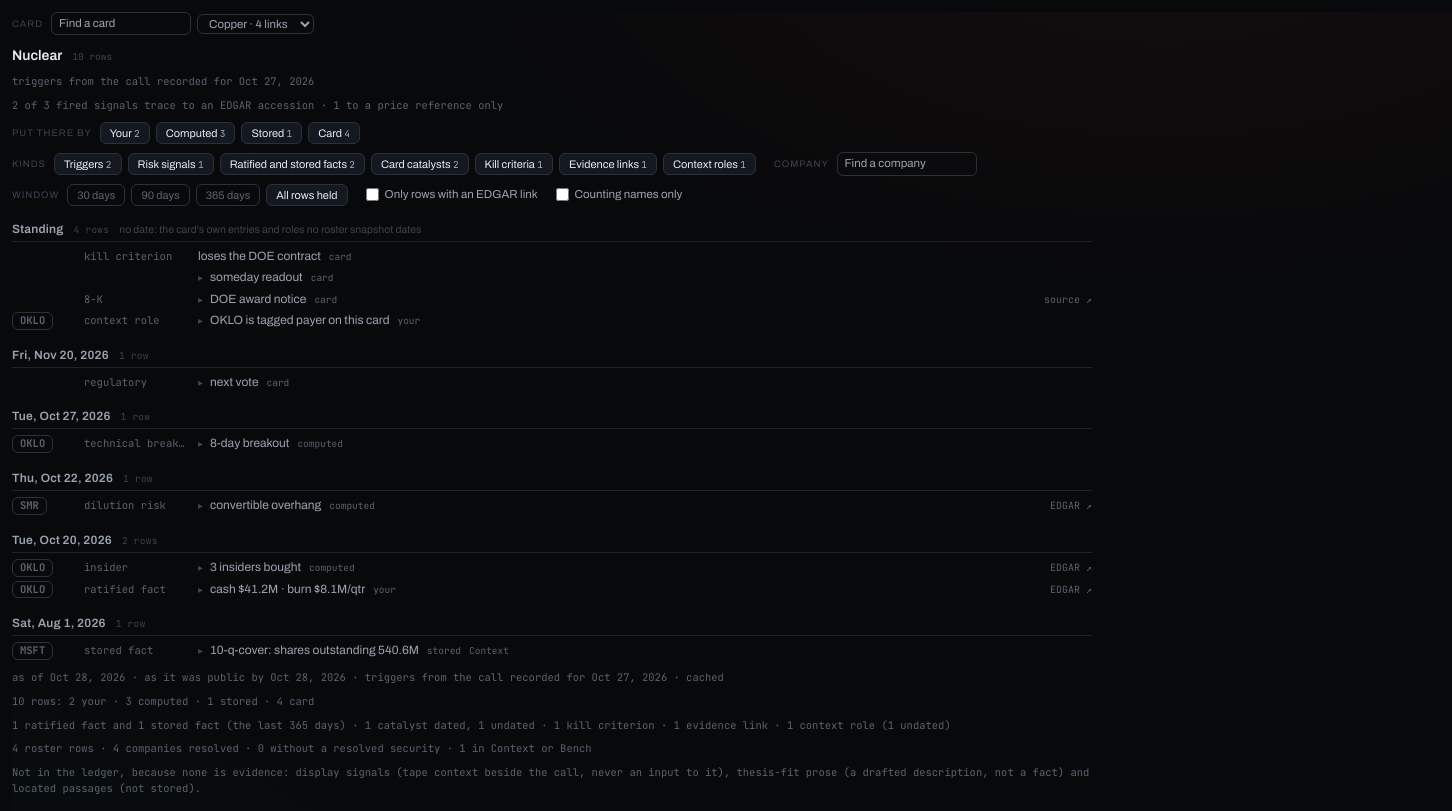
Test: EvidenceLedger › shows a price reference as text with its inputs, and no link
Click the button "▸ 8-day breakout" at coordinates (244, 444), box [198,435,289,453]
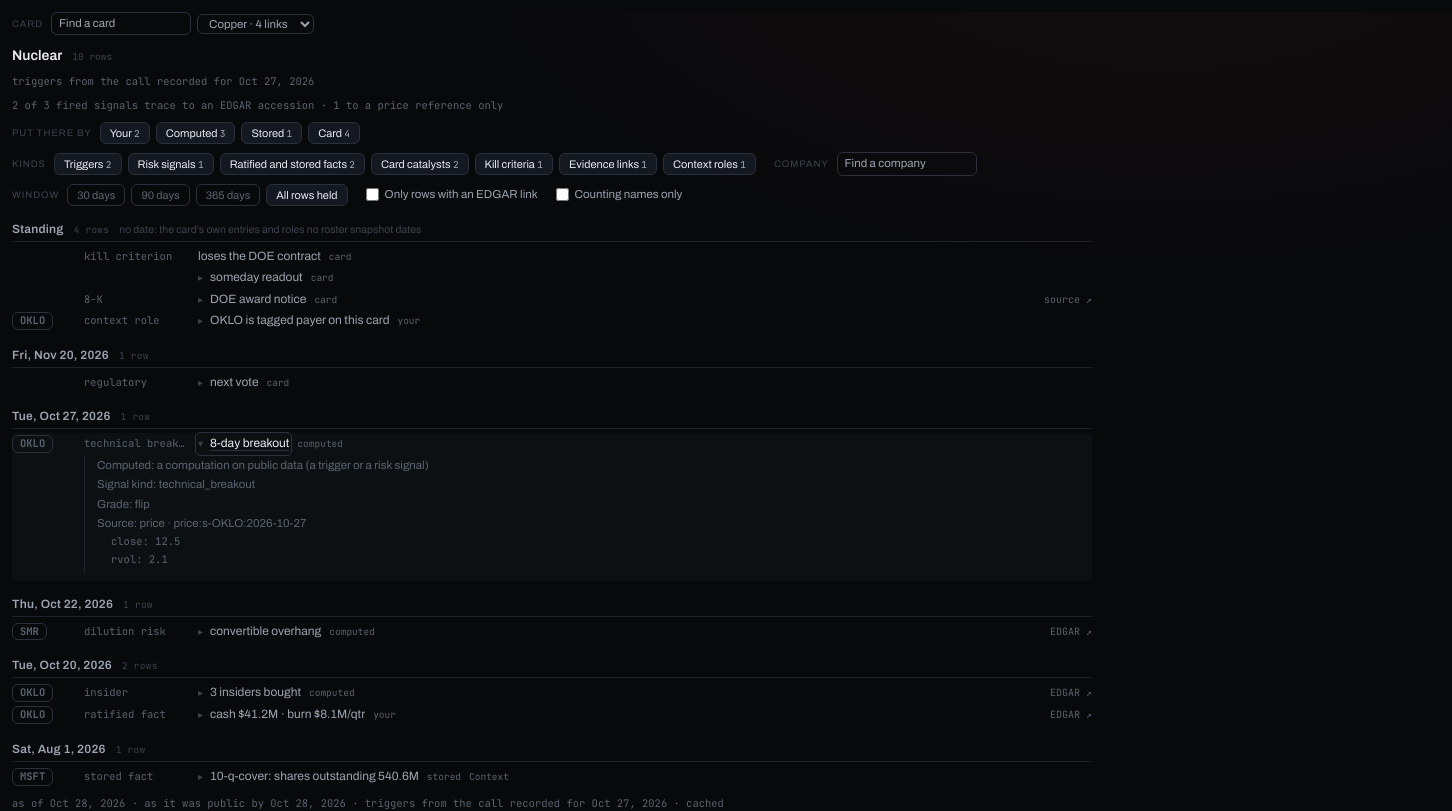
Expected: the text "Source: price · price:s-OKLO:2026-10-27" is shown, [97,517,306,529]
Expected: the list item "close: 12.5" is shown, [111,534,180,548]
